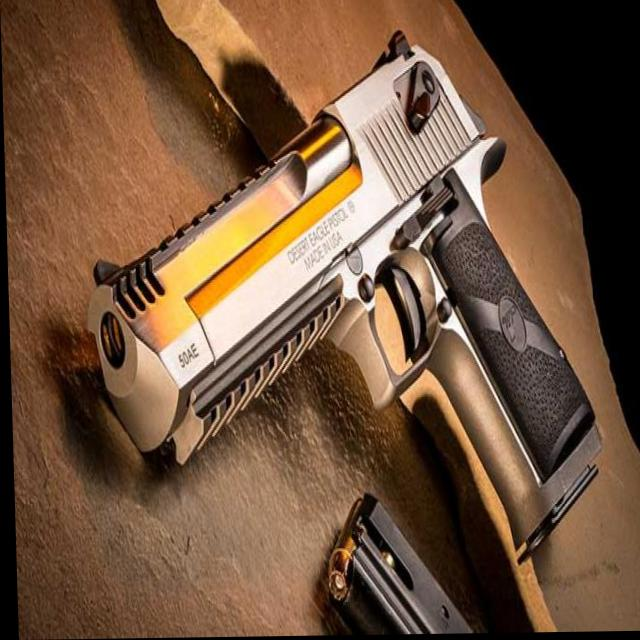handgun: (65, 19, 605, 560)
